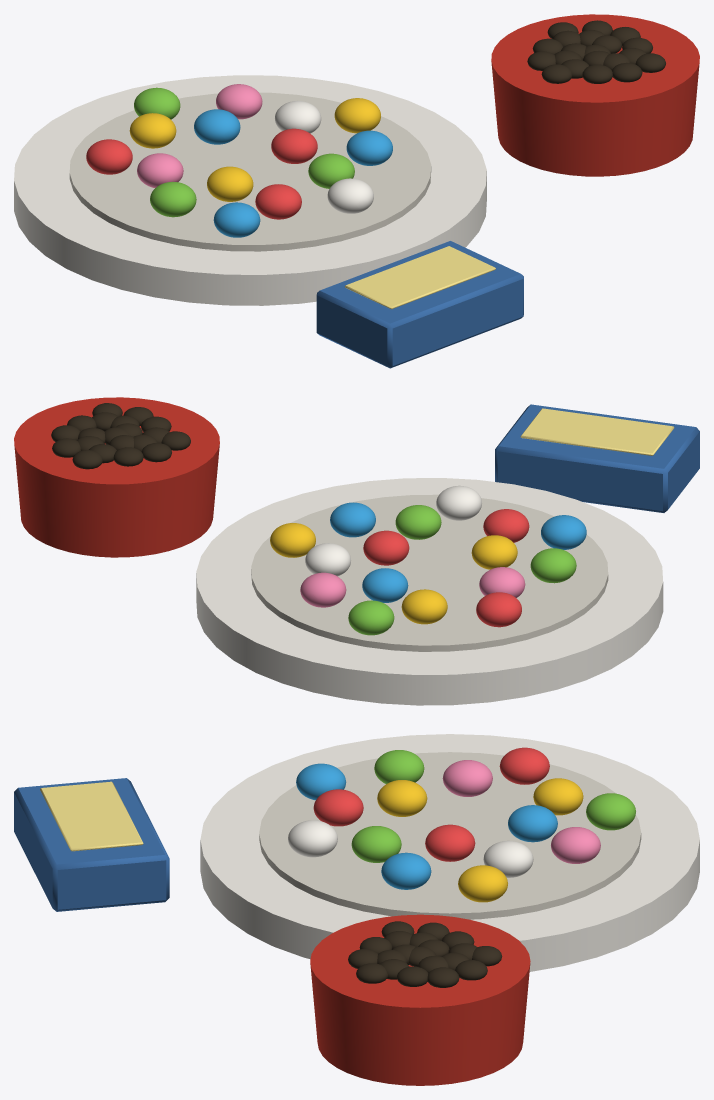
File: DiaKeoBanh_HatDua.glb
3 renders of one model, top to bottom at view 1: azimuth 30°, elevation 25°; view 2: azimuth 150°, elevation 25°; view 3: azimuth 270°, elevation 25°, orthographic. The views are drawn at different scales.
Visible parts, largest first — view 1: DiaKeoBanh_HatDua; view 2: DiaKeoBanh_HatDua; view 3: DiaKeoBanh_HatDua.
Boxes of the visible parts, x1=… form: DiaKeoBanh_HatDua: x1=14, y1=14, x2=699, y2=368; DiaKeoBanh_HatDua: x1=14, y1=397, x2=699, y2=705; DiaKeoBanh_HatDua: x1=14, y1=734, x2=699, y2=1085.
Bounding box in the file's own units: 0.511 × 0.069 × 0.4593.
